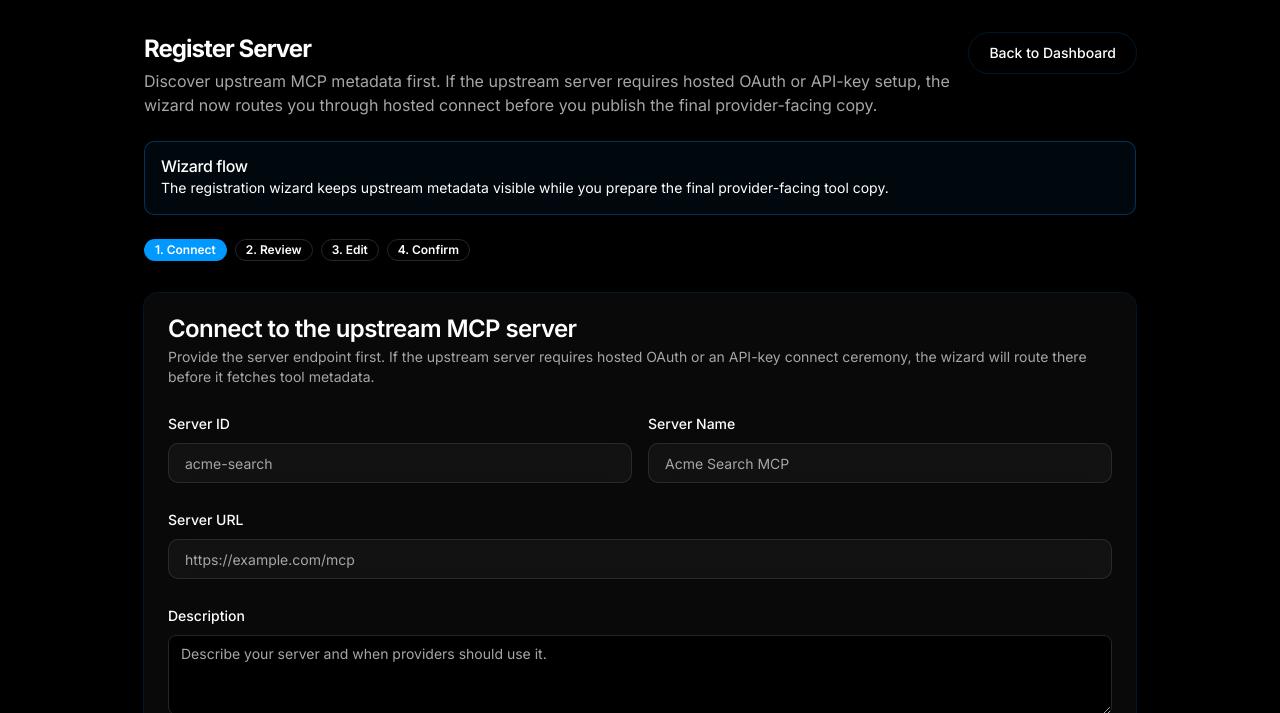
RegisterServer page › shows structured parameter metadata from discovery during the review step
Type "srv" into the field labelled "Server ID".
click(400, 463); type("srv")  # box [168,443,632,483]
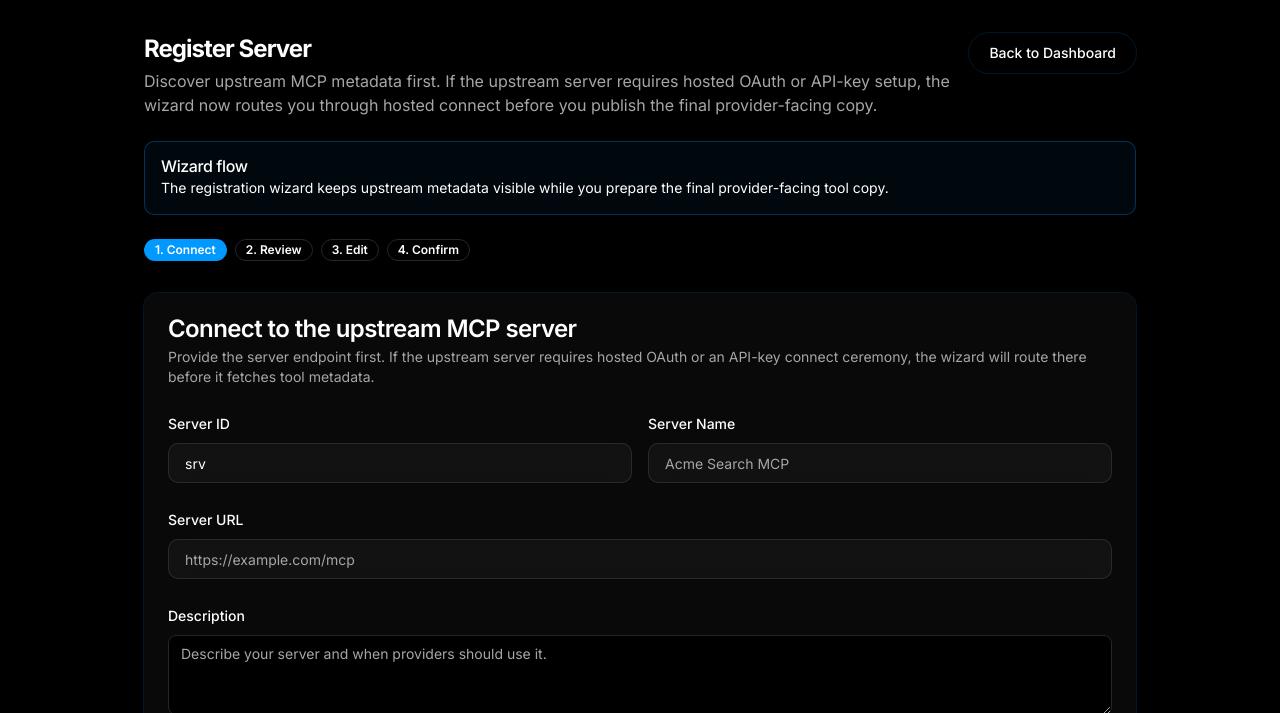
Type "Owned Server" into the field labelled "Server Name".
click(880, 463); type("Owned Server")  # box [648,443,1112,483]
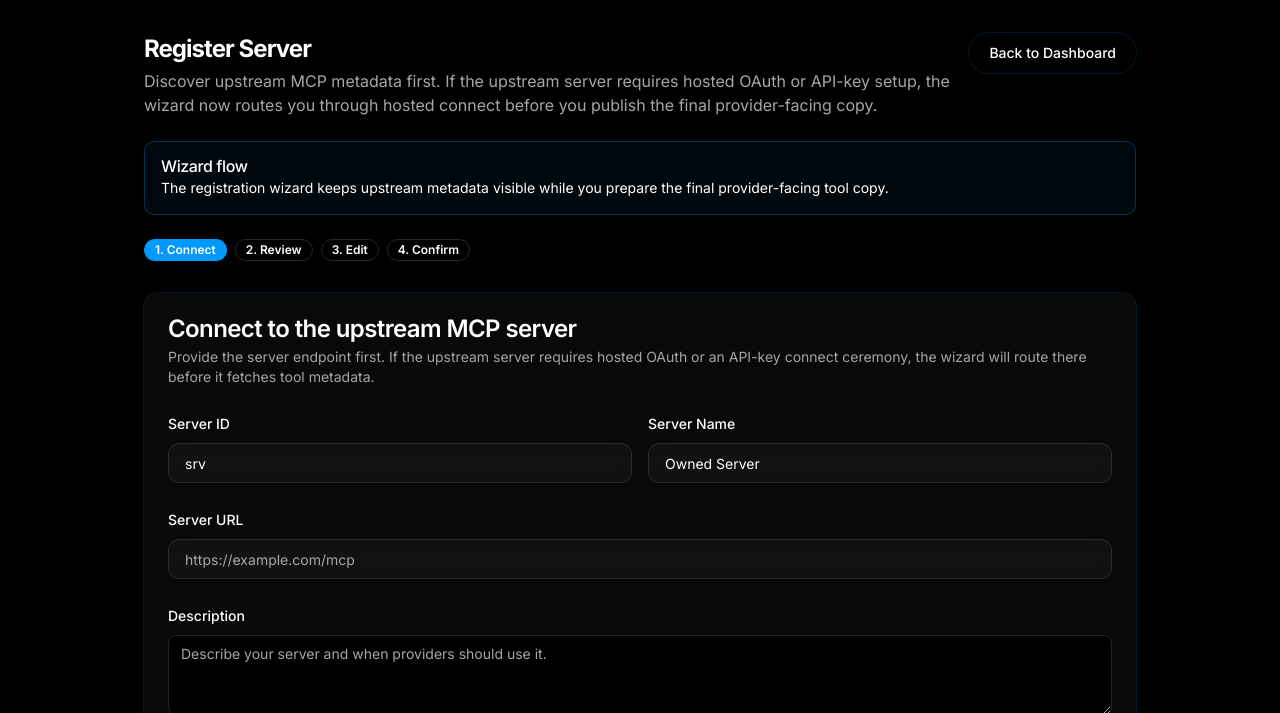
Type "https://provider.test/mcp" into the field labelled "Server URL".
click(640, 559); type("https://provider.test/mcp")  # box [168,539,1112,579]
(page scrolled)
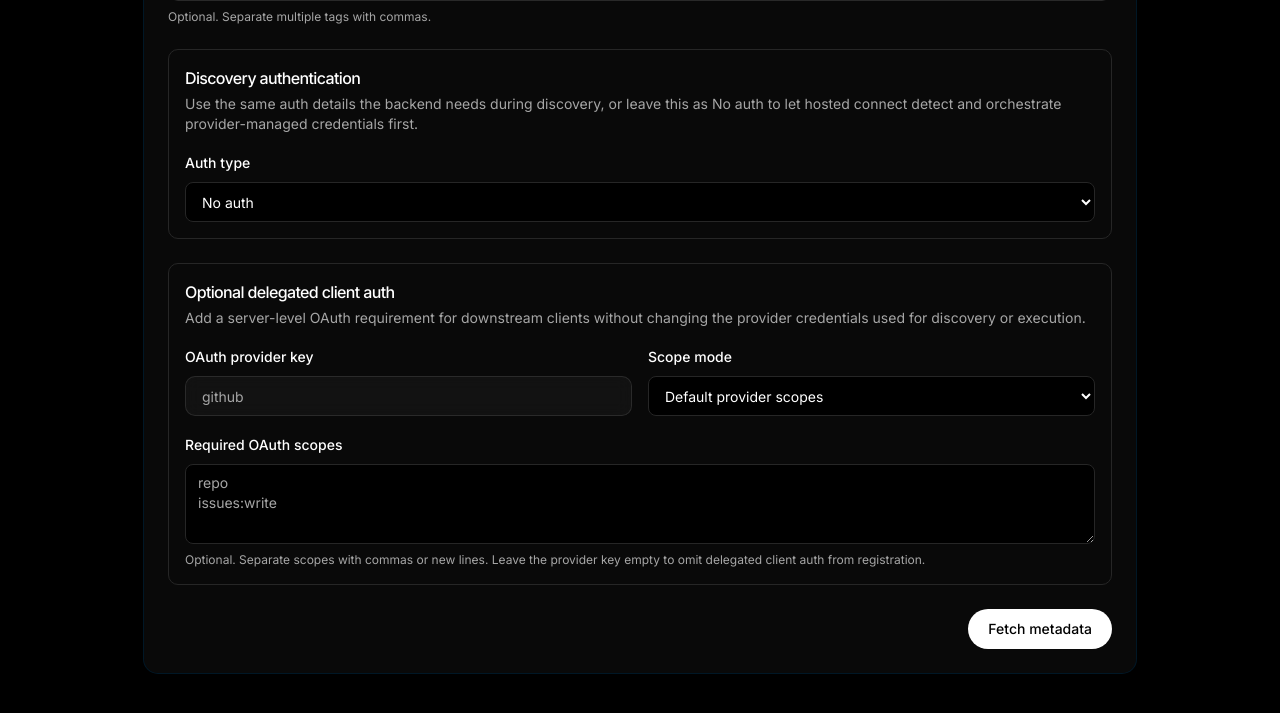
Click the button "Fetch metadata".
click(1040, 629)  # box [968,609,1112,649]
(page scrolled)
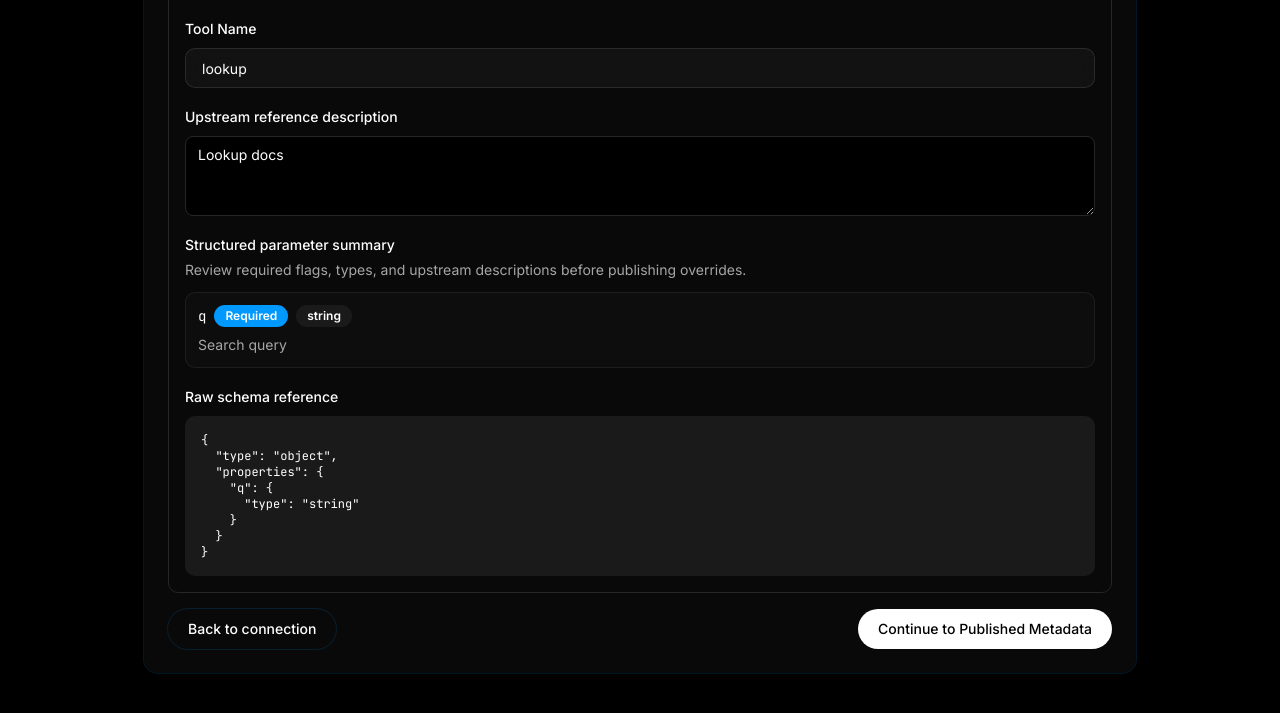
Check: the text "Structured parameter summary" is shown, box [185,236,395,253]
Check: the text "q" is shown, box [198,306,206,326]
Check: the text "Required" is shown, box [214,305,288,327]
